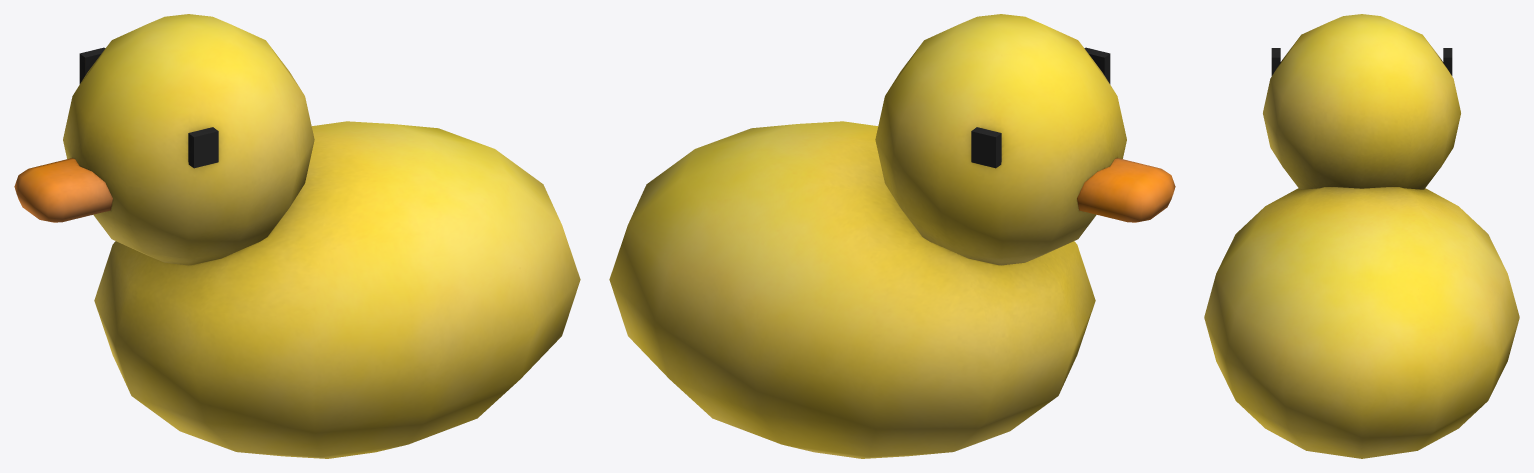
File: rubber_duck.fbx
The picture shows the model from 3 angles, left to right: view 1: azimuth 30°, elevation 25°; view 2: azimuth 150°, elevation 25°; view 3: azimuth 270°, elevation 25°; orthographic projection. The views are drawn at different scales.
Parts seen in each view (by area): view 1: Body; view 2: Body; view 3: Body.
Part boxes in pixels (box(x1,y1,x2,y2)): Body: box(14, 14, 580, 458); Body: box(609, 14, 1175, 458); Body: box(1204, 14, 1519, 458).
Bounding box in the file's own units: 1.08 × 0.86 × 0.7.
Materials: 1 (1 with a texture image).
